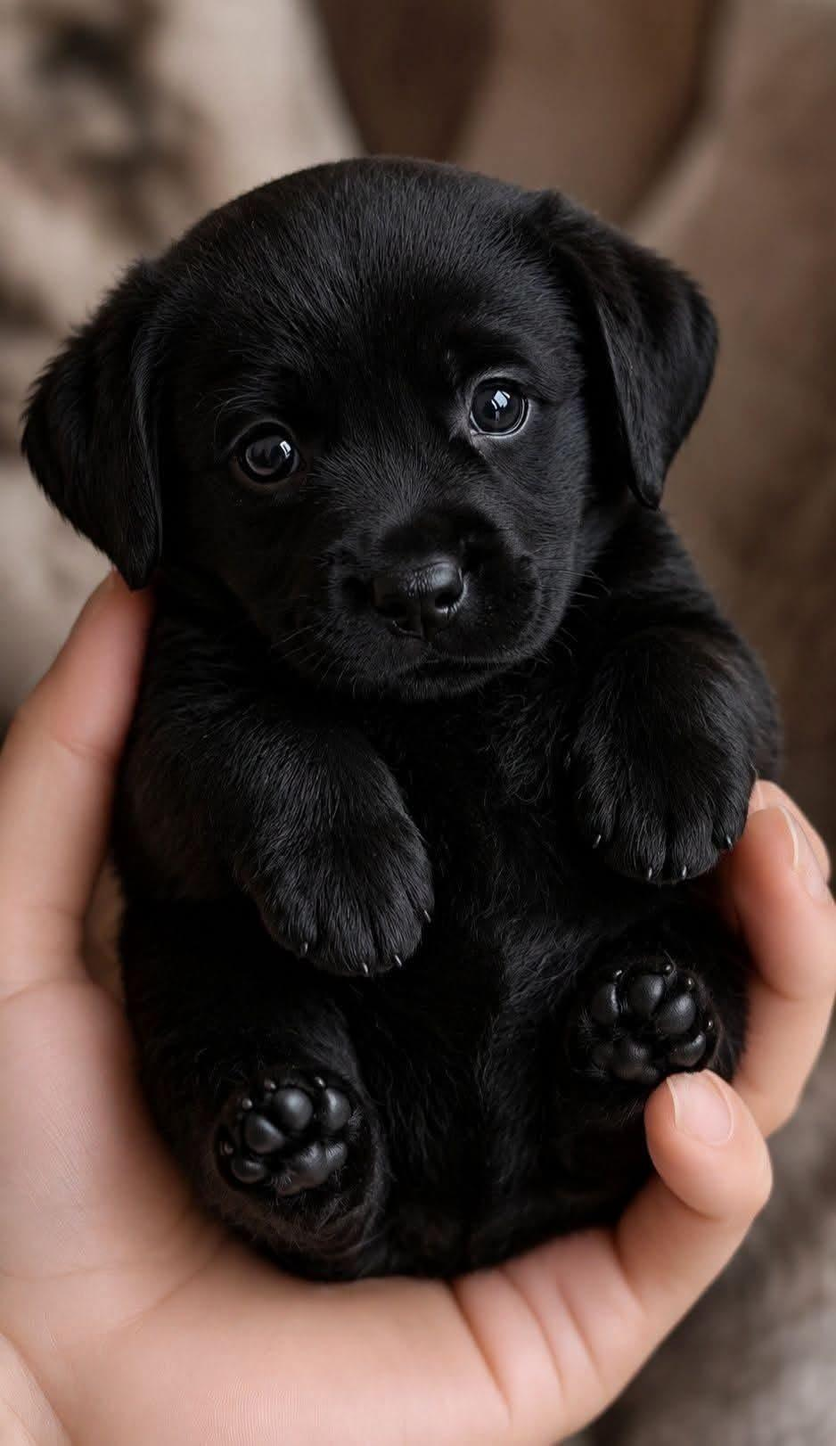puppy-dog: (18, 152, 788, 1286)
